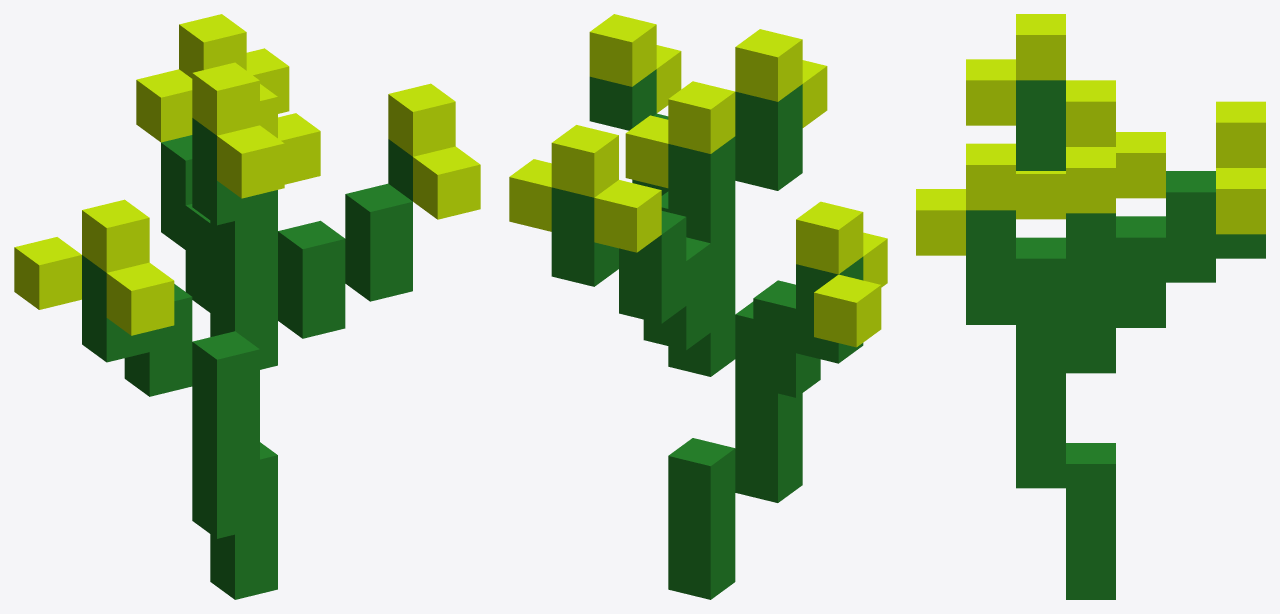
The model's file is Flower03-0.obj.
3 renders of one model, left to right at view 1: azimuth 30°, elevation 25°; view 2: azimuth 150°, elevation 25°; view 3: azimuth 270°, elevation 25°, orthographic.
Size of the model in its own units: 0.8 by 1.2 by 0.7.
Materials: 1 (1 with a texture image).
